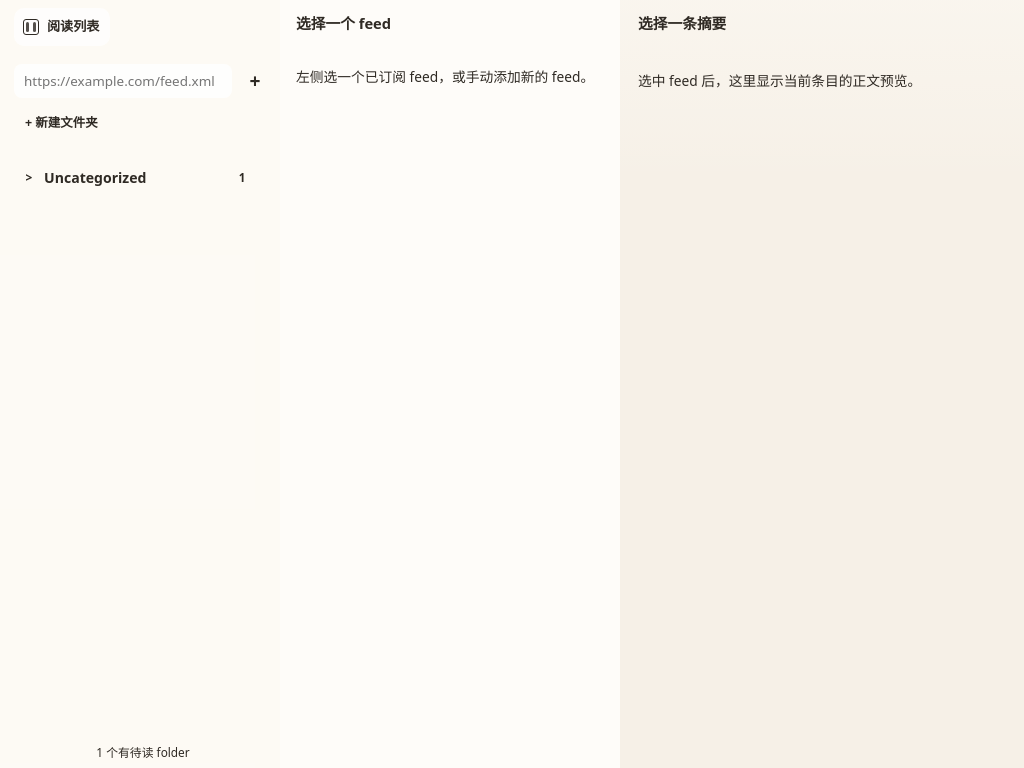
Test: FeedDashboard › counts unread items from current feed URLs when the total article count stays the same
Click the button with aria-label "展开 Uncategorized". click: point(138, 178)
box: [14,160,262,196]
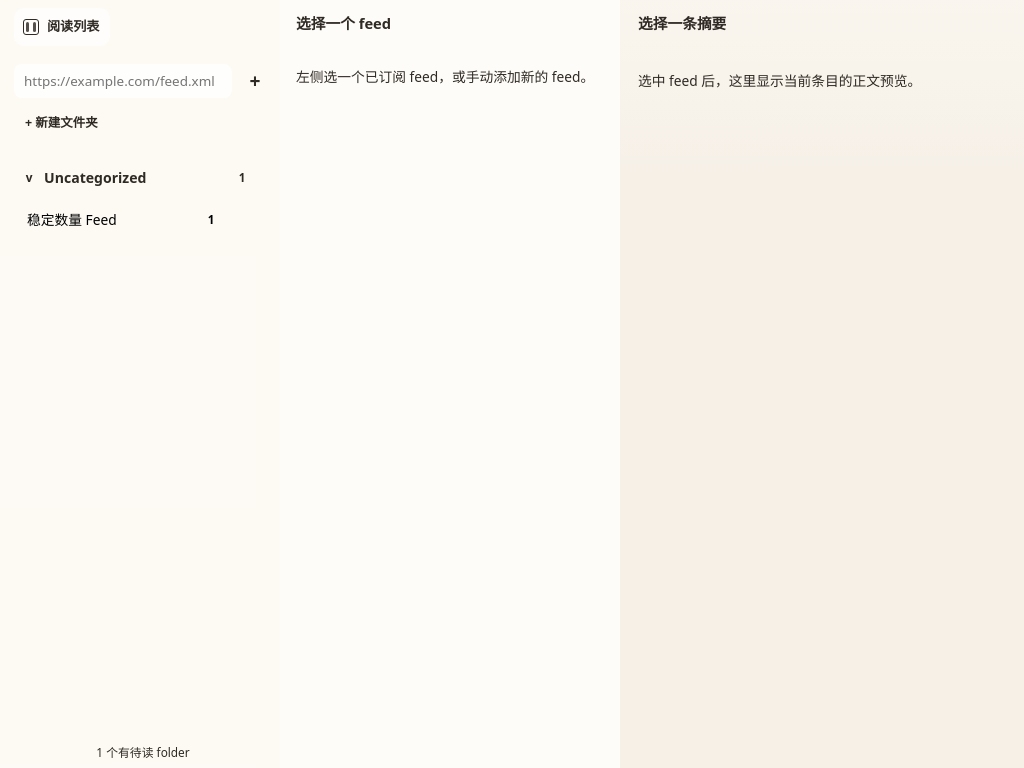
Check: the text named "1 条待读" is shown, box [208,212,214,227]
